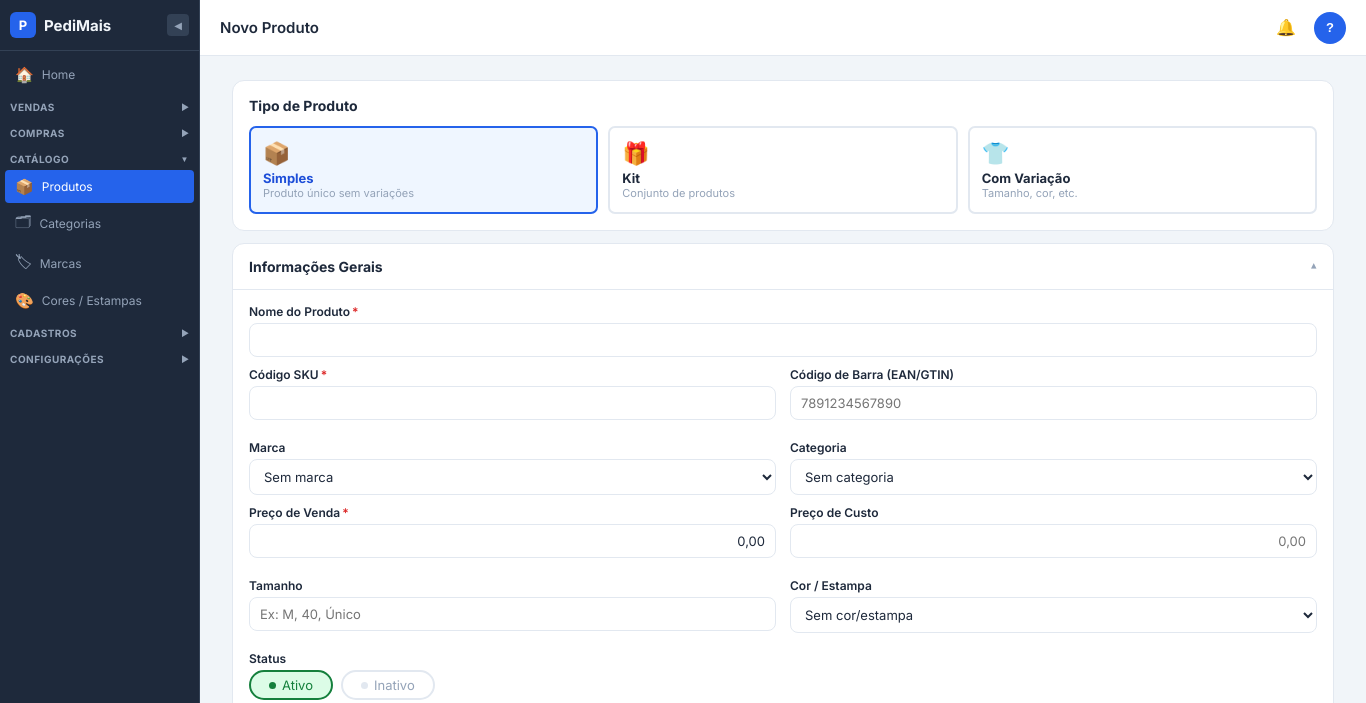
ProductFormView › requires a preço de venda greater than zero
This screenshot has width=1366, height=703.
Type "Camiseta Polo" into the field with test id "nome" at (783, 340), box [249,323,1317,357]
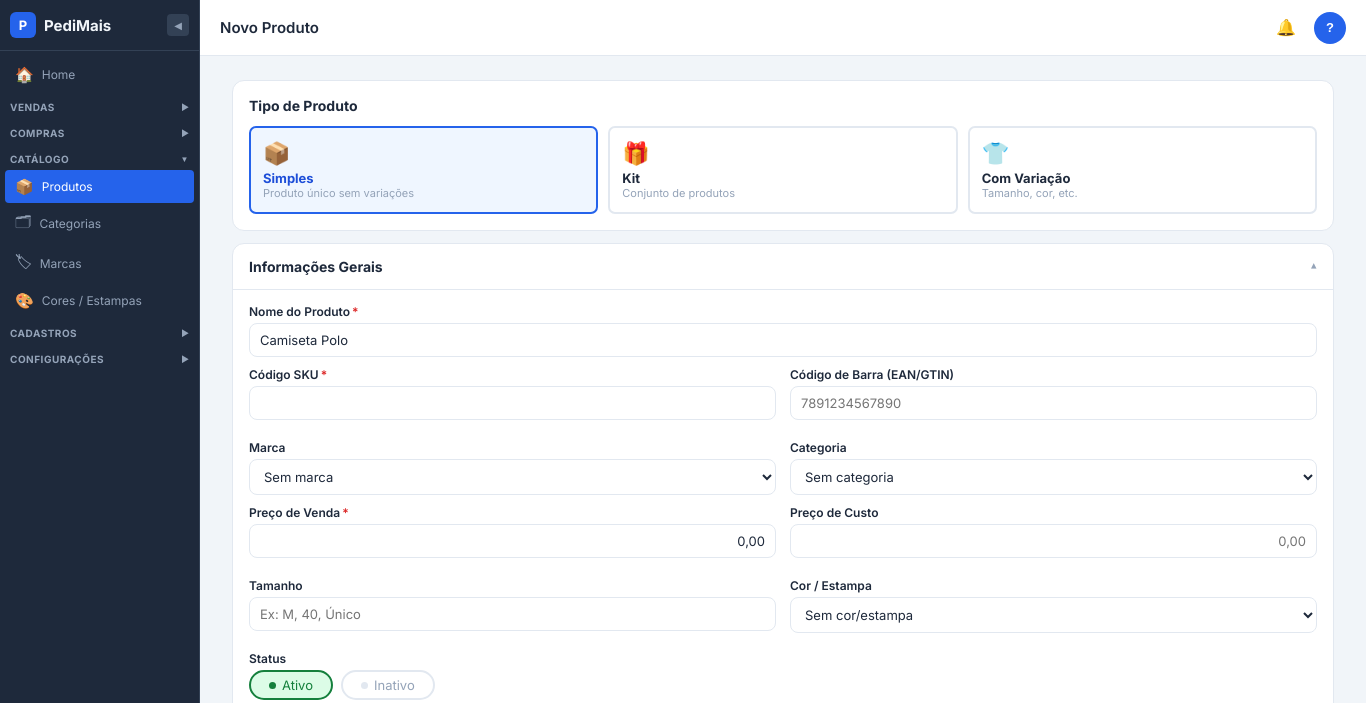
Type "P0001" into the field with test id "sku" at (512, 403), box [249,386,776,420]
(page scrolled)
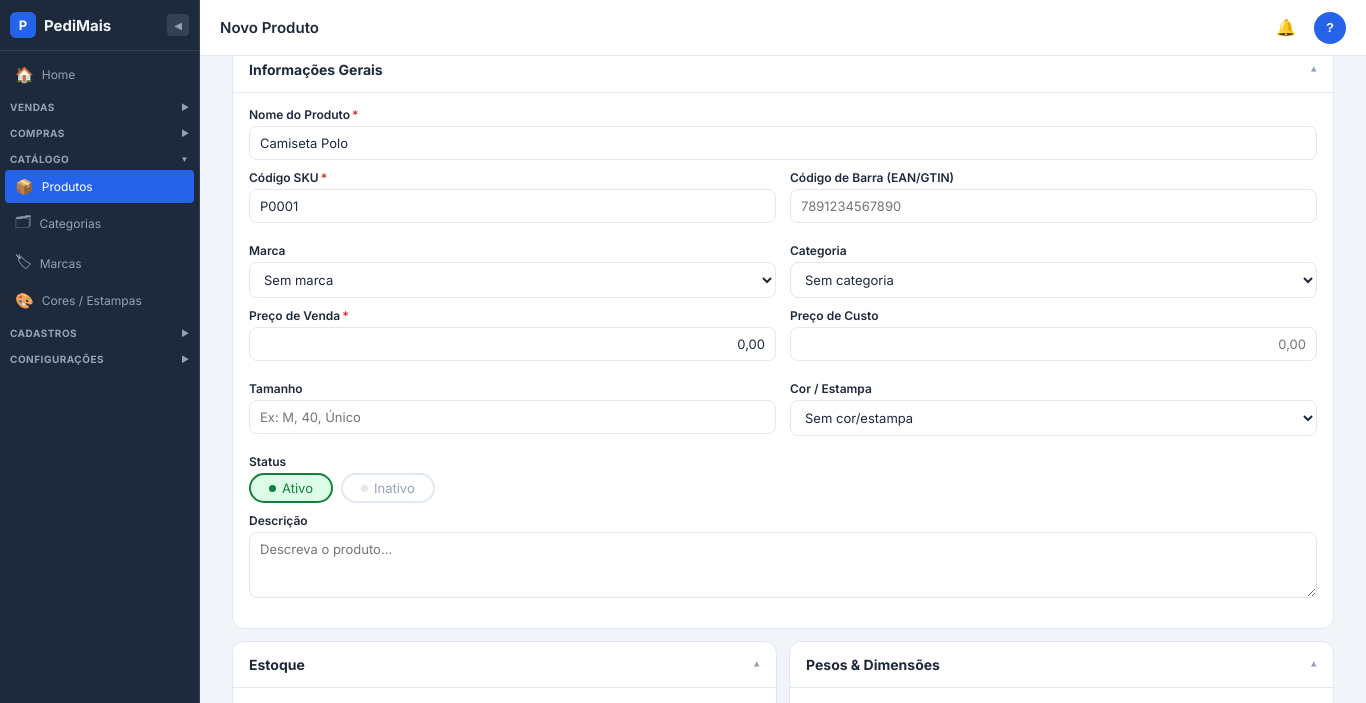
Submit the form
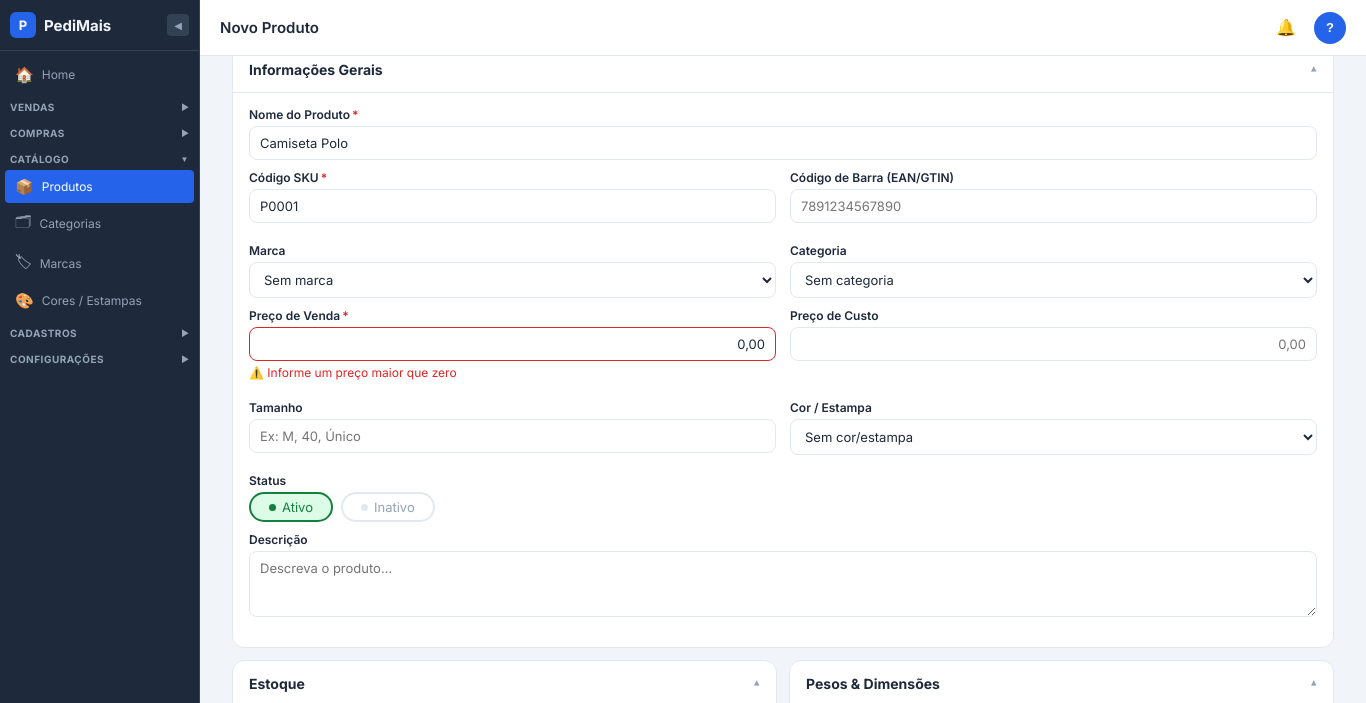
Now the text "Informe um preço maior que zero" is shown, box [249,365,457,380]
